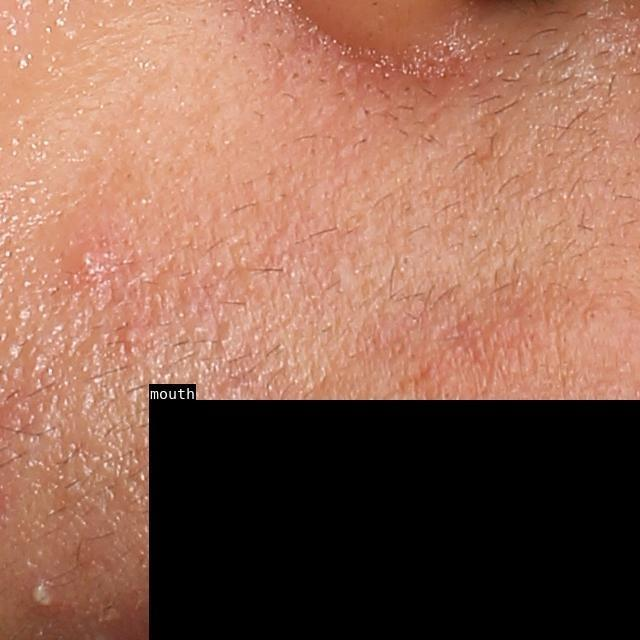pustule: (28, 576, 60, 617)
